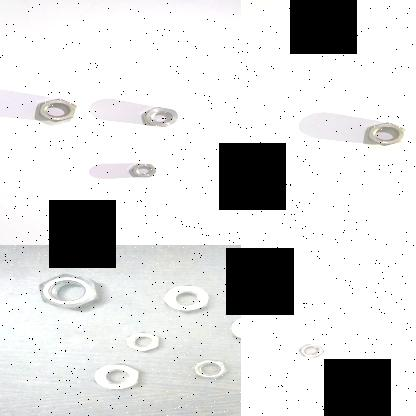NUTS: (29, 272, 110, 316), (90, 360, 146, 396), (160, 283, 218, 315), (183, 358, 234, 384), (364, 120, 406, 149), (33, 98, 79, 124), (138, 104, 182, 130), (120, 332, 166, 354), (127, 161, 160, 181), (294, 341, 326, 360), (220, 313, 241, 341)
